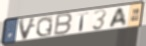3: (92, 8, 110, 31)
A: (109, 6, 128, 29)
B: (53, 12, 74, 36)
Q: (35, 16, 54, 38)
T: (76, 11, 90, 32)
V: (18, 16, 38, 41)
